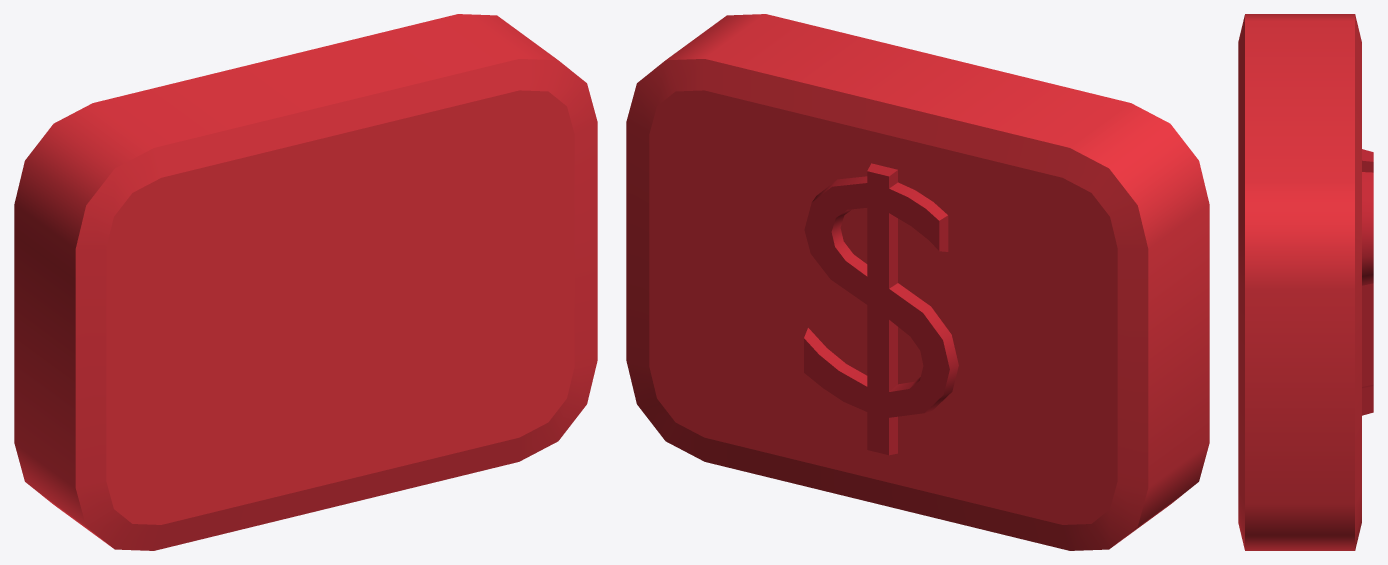
Rendered from Currency Large.fbx.
The picture shows the model from 3 angles, left to right: view 1: azimuth 30°, elevation 25°; view 2: azimuth 150°, elevation 25°; view 3: azimuth 270°, elevation 25°; orthographic projection. The views are drawn at different scales.
Parts seen in each view (by area): view 1: Currency Large; view 2: Currency Large; view 3: Currency Large.
Part boxes in pixels (x1,y1,x2,y2): Currency Large: (14,14,597,550); Currency Large: (626,14,1209,550); Currency Large: (1238,14,1373,550).
Bounding box in the file's own units: 1.54 × 1.14 × 0.3863.
